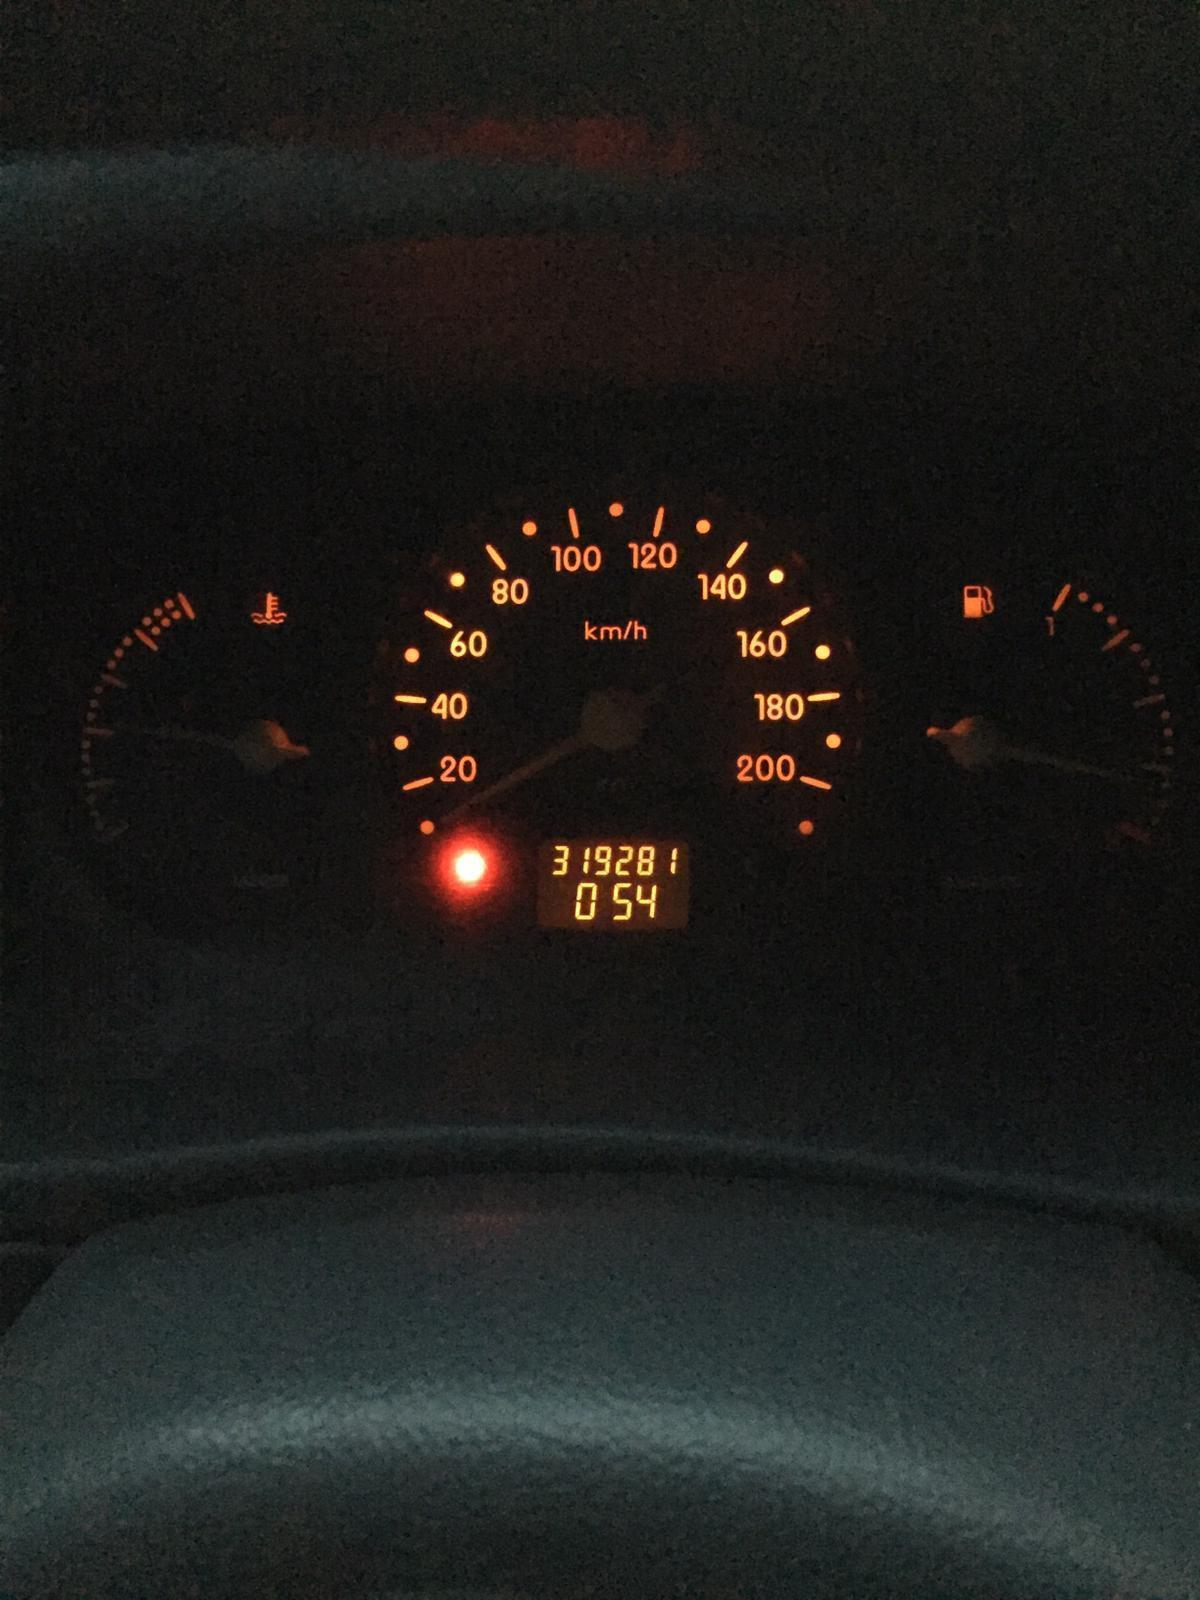0: (574, 882, 597, 921)
1: (581, 847, 590, 874), (669, 847, 678, 874)
2: (614, 845, 633, 876)
3: (551, 845, 568, 876)
4: (635, 884, 657, 918)
5: (611, 882, 633, 920)
8: (637, 845, 655, 876)
9: (592, 845, 613, 876)
odometer: (529, 831, 695, 935)
